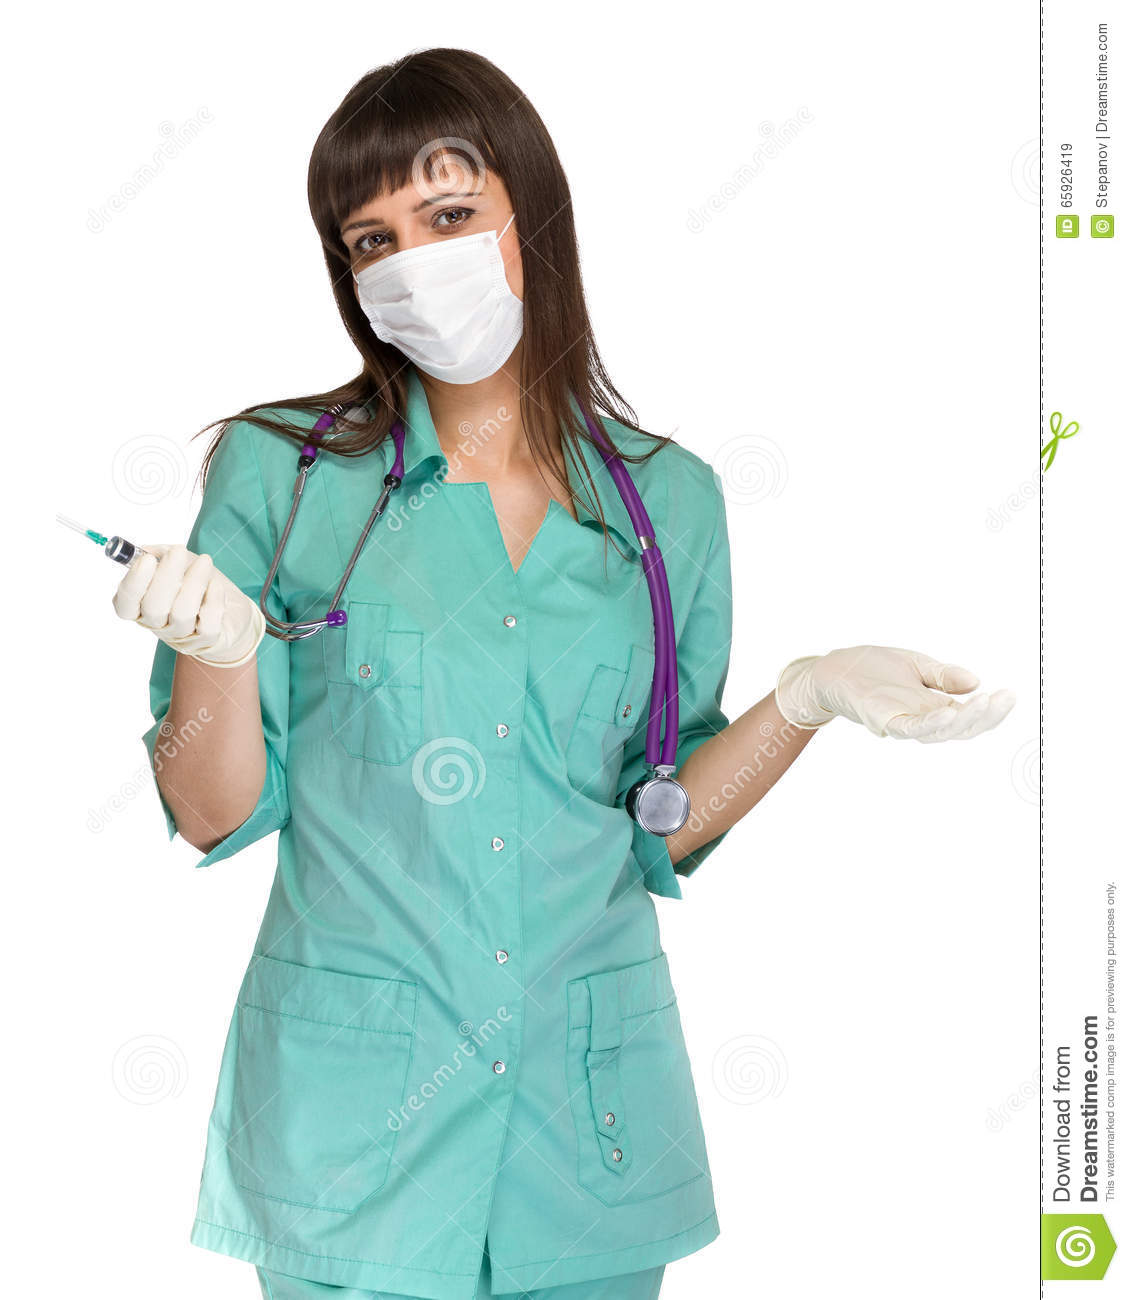mask: (339, 231, 538, 405)
